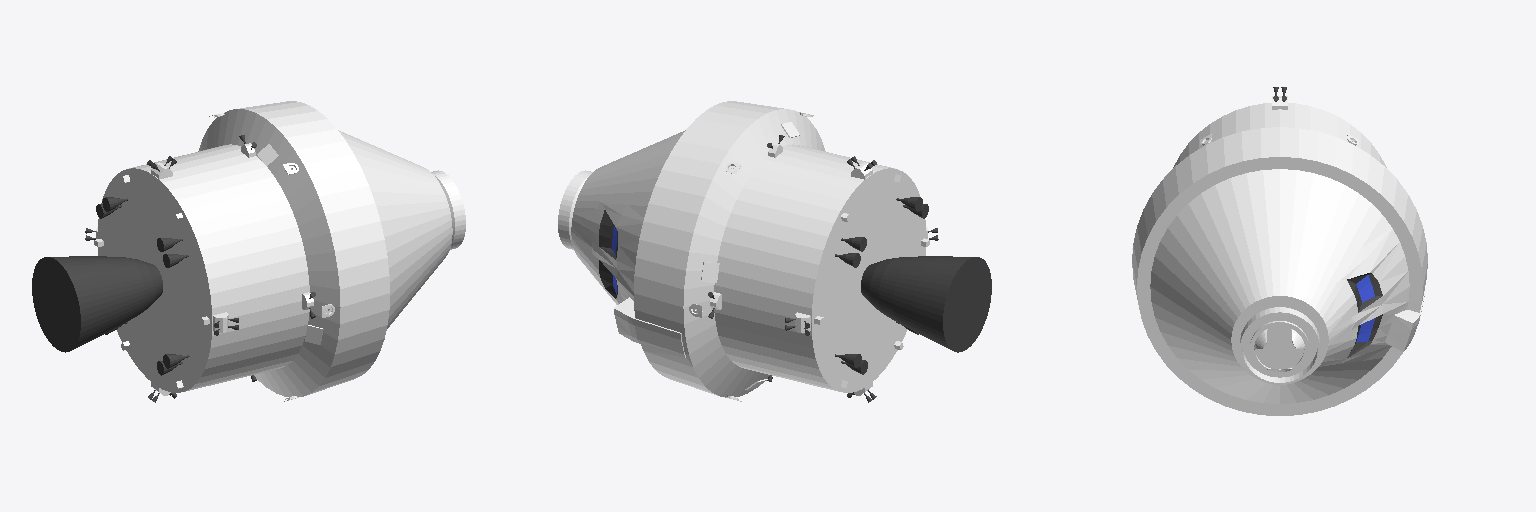
File: Orion_Main.obj
3 views of the same model, side by side, from view 1: azimuth 30°, elevation 25°; view 2: azimuth 150°, elevation 25°; view 3: azimuth 270°, elevation 25° (orthographic).
Visible parts, largest first — view 1: OrionR6_Main_sep36, Cube43_copy48; view 2: OrionR6_Main_sep36, Cube43_copy48; view 3: OrionR6_Main_sep36, OrionR6_Main_sep2.
Boxes of the visible parts, <box> form: OrionR6_Main_sep36: <box>32,101,465,396</box>; Cube43_copy48: <box>85,135,315,402</box>; OrionR6_Main_sep36: <box>558,101,991,397</box>; Cube43_copy48: <box>708,135,938,402</box>; OrionR6_Main_sep36: <box>1132,103,1427,415</box>; OrionR6_Main_sep2: <box>1250,321,1308,375</box>.
Size of the model in its own units: 8.57 by 5.51 by 5.51.